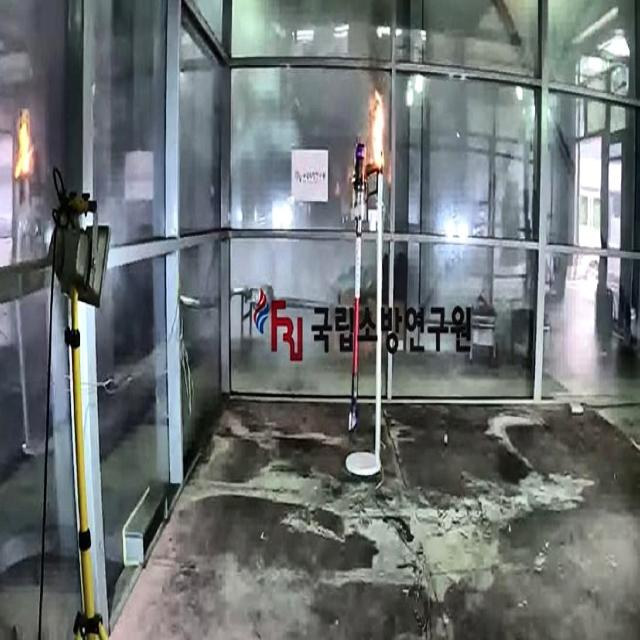fire: (361, 68, 405, 198), (10, 95, 45, 199)
